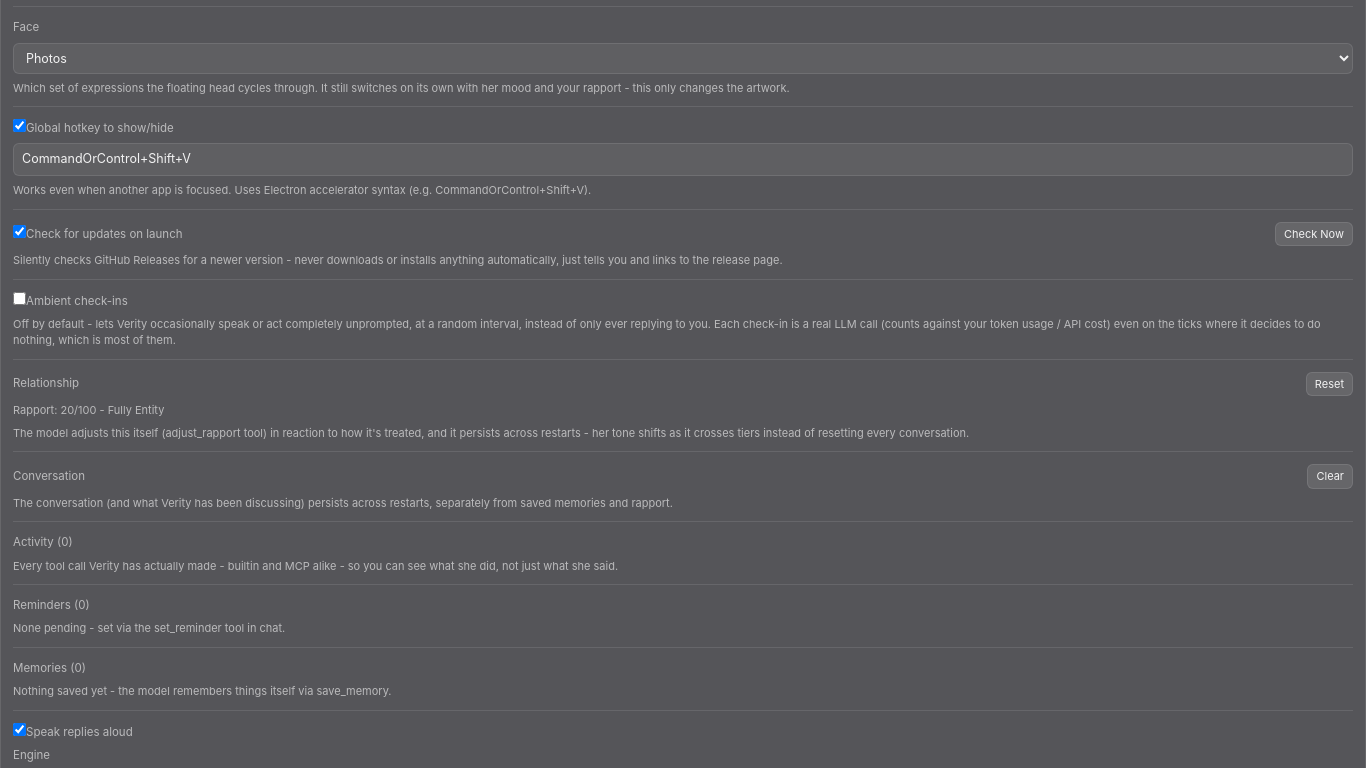
SettingsPanel › relationship › resets rapport to 100 when confirmed
(page scrolled)
expect the text "Rapport: 20/100 - Fully Entity" is shown: met, box [13, 403, 164, 417]
What coordinates should you click on to do the following:
click the button "Reset"
I would click on:
 (1329, 384)
Its box is [1306, 372, 1353, 396].
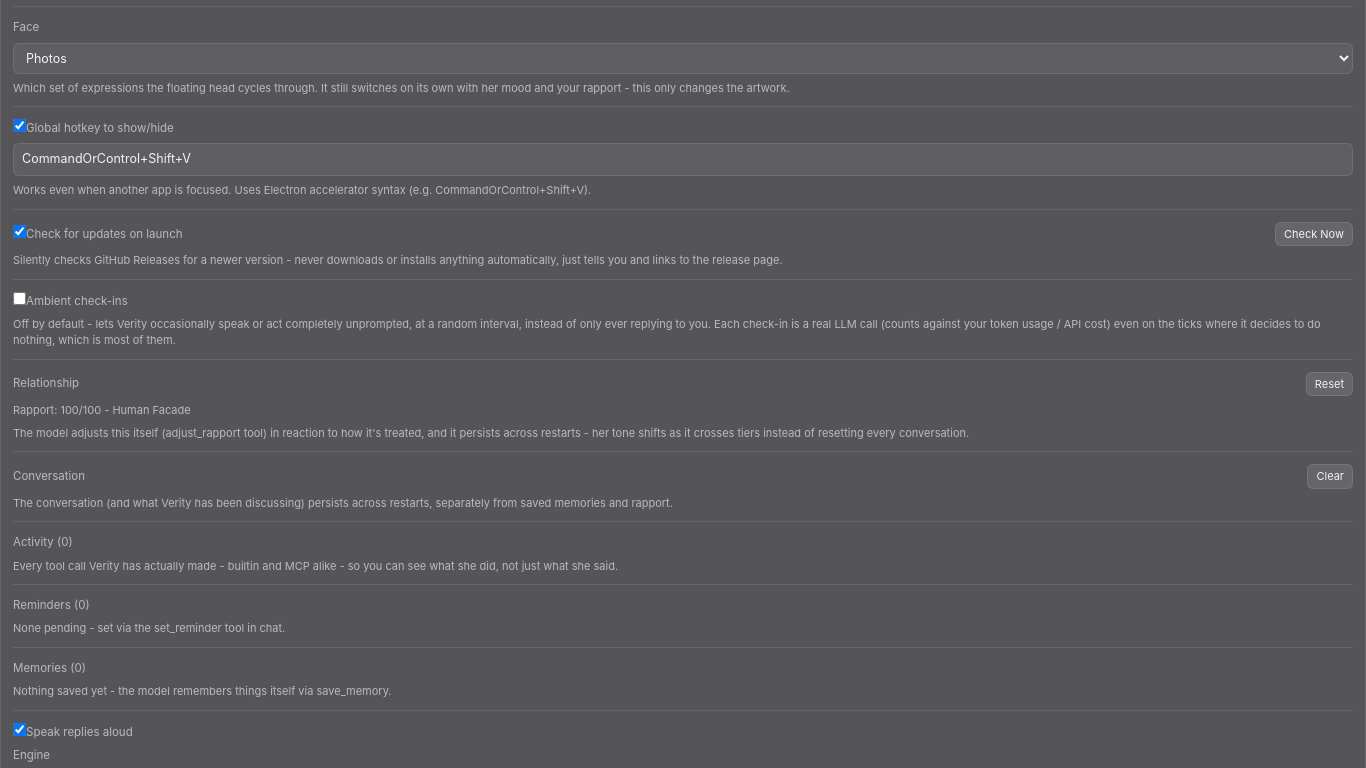
expect the text "Rapport: 100/100 - Human Facade" is shown: met, box [13, 403, 191, 417]
